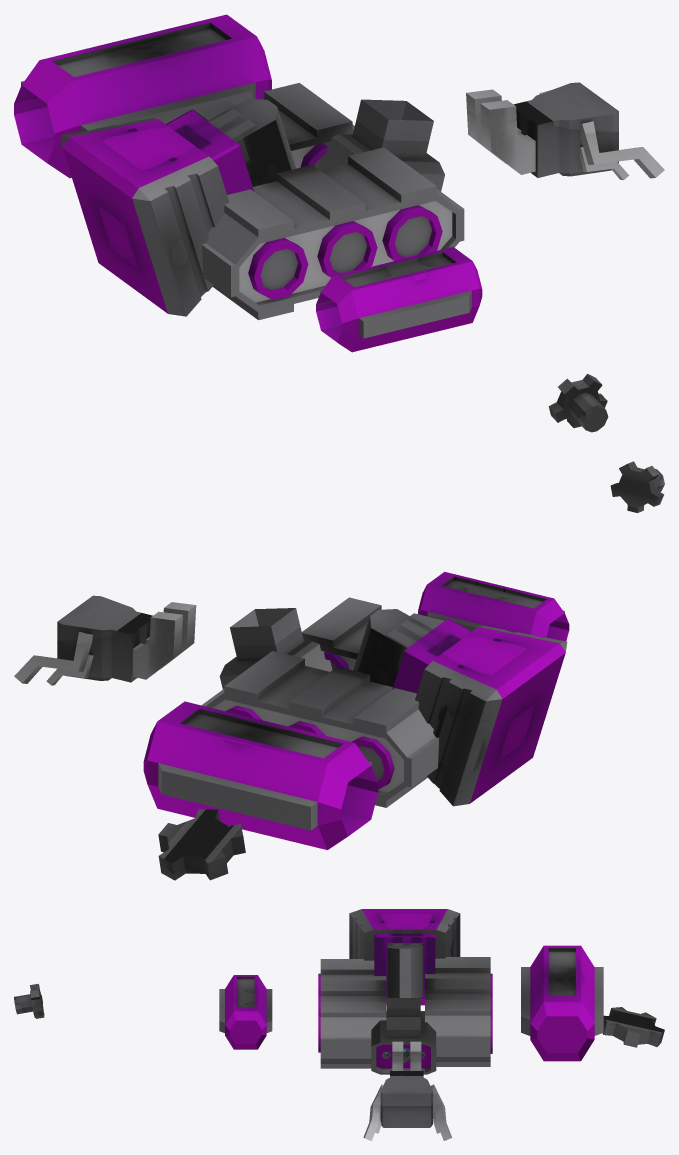
Rendered from Enemy2_Die32.obj.
3 views of the same model, one above another, from view 1: azimuth 30°, elevation 25°; view 2: azimuth 150°, elevation 25°; view 3: azimuth 270°, elevation 25° (orthographic). The views are drawn at different scales.
Visible parts, largest first — view 1: Object006, Object013, Object011, Object014, Object010, Object012, Object008; view 2: Object011, Object013, Object006, Object010, Object014, Object009, Object012, Object008; view 3: Object006, Object011, Object013, Object010, Object012, Object014, Object009, Object008.
Part boxes in pixels (x1,y1,x2,y2): Object006: (154,83,464,320); Object013: (60,99,296,316); Object011: (14,14,271,178); Object014: (316,247,482,352); Object010: (466,82,664,180); Object012: (318,99,444,191); Object008: (548,374,608,432); Object011: (143,701,378,849); Object013: (353,609,567,806); Object006: (201,597,444,807); Object010: (14,595,196,685); Object014: (418,571,569,641); Object009: (158,809,245,880); Object012: (219,608,332,689); Object008: (610,461,664,512); Object006: (318,957,492,1068); Object011: (521,945,603,1061); Object013: (349,909,460,1005); Object010: (363,1041,451,1140); Object012: (371,998,436,1074); Object014: (219,975,272,1049); Object009: (602,1007,664,1047); Object008: (14,984,44,1018).
Bounding box in the file's own units: 199 × 54.98 × 340.
